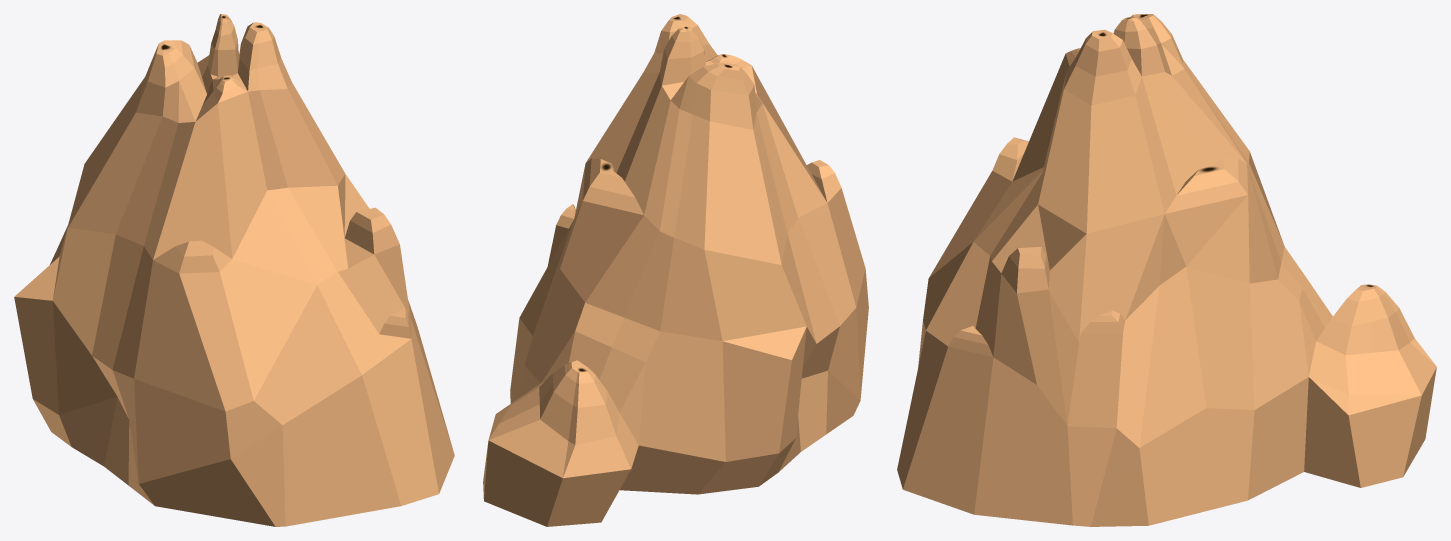
File: auntnest.fbx
3 views of the same model, side by side, from view 1: azimuth 30°, elevation 25°; view 2: azimuth 150°, elevation 25°; view 3: azimuth 270°, elevation 25° (orthographic). The views are drawn at different scales.
Parts seen in each view (by area): view 1: 平面; view 2: 平面; view 3: 平面.
Boxes of the visible parts, <box> form: 平面: <box>14,14,454,526</box>; 平面: <box>483,14,868,526</box>; 平面: <box>897,14,1436,526</box>.
Size of the model in its own units: 180 by 213 by 247.
